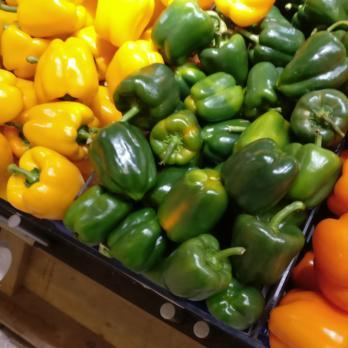Capsicum: (140, 6, 348, 290), (1, 2, 137, 220), (210, 293, 348, 348)
